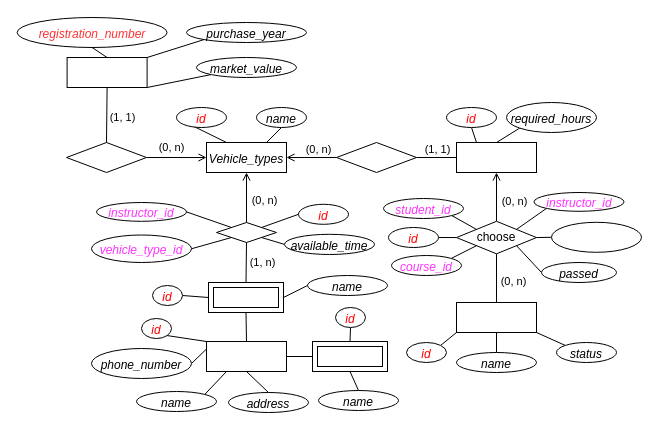
This 660x430 diagram has some shape labels left out. Here are the shapes that lost their labels. From the top down, the centre of each, then its label:
At point 106,72: "Vehicles".
At point 106,157: "belong to".
At point 376,157: "for".
At point 496,157: "Courses".
At point 246,232: "teach".
At point 596,236: "driving_hours".
At point 246,297: "Instructors".
At point 496,317: "Students".
At point 246,356: "Employees".
At point 350,356: "Technicians".
